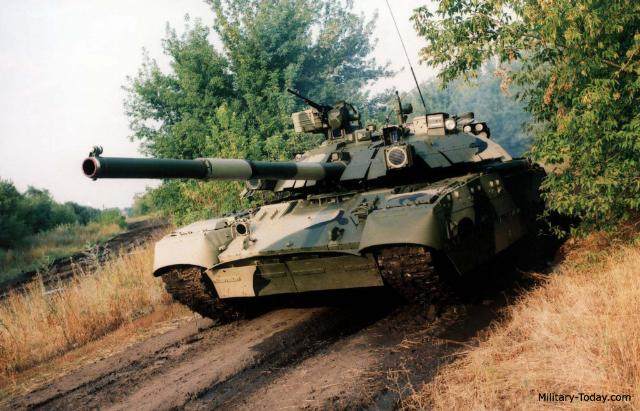tank: (157, 96, 538, 317)
